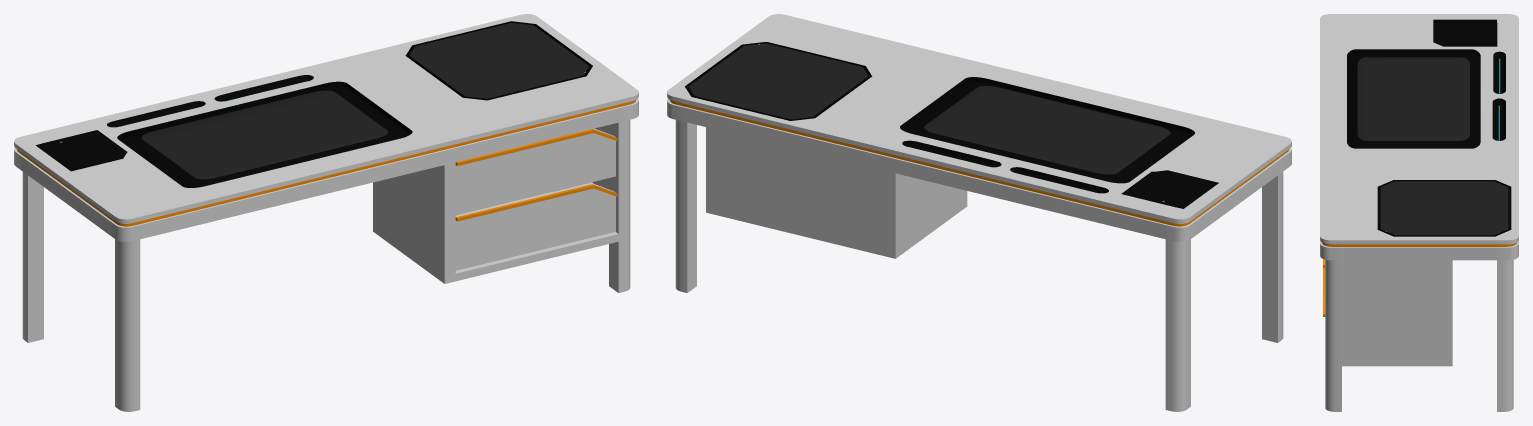
Rendered from desk.glb.
3 renders of one model, left to right at view 1: azimuth 30°, elevation 25°; view 2: azimuth 150°, elevation 25°; view 3: azimuth 270°, elevation 25°, orthographic. The views are drawn at different scales.
Parts seen in each view (by area): view 1: Desktop, DeskDrawer_Housing, Desk_Drawer2, Desk_Drawer1; view 2: Desktop, DeskDrawer_Housing; view 3: Desktop, DeskDrawer_Housing.
Boxes of the visible parts, x1,y1,x2,y2 form: Desktop: [14, 14, 638, 411]; DeskDrawer_Housing: [373, 125, 618, 283]; Desk_Drawer2: [455, 182, 617, 270]; Desk_Drawer1: [455, 128, 617, 215]; Desktop: [667, 14, 1291, 411]; DeskDrawer_Housing: [706, 127, 967, 258]; Desktop: [1320, 14, 1518, 411]; DeskDrawer_Housing: [1342, 260, 1452, 366].
Size of the model in its own units: 10.03 by 3.6 by 3.72.
